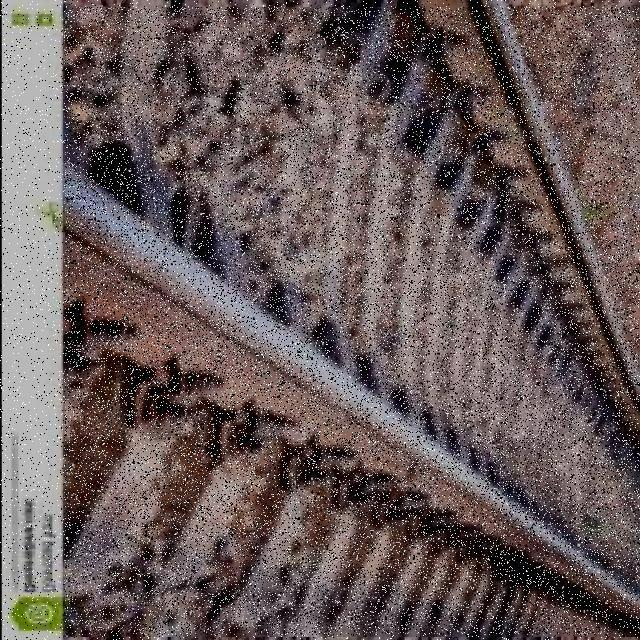rail: (64, 7, 639, 635)
